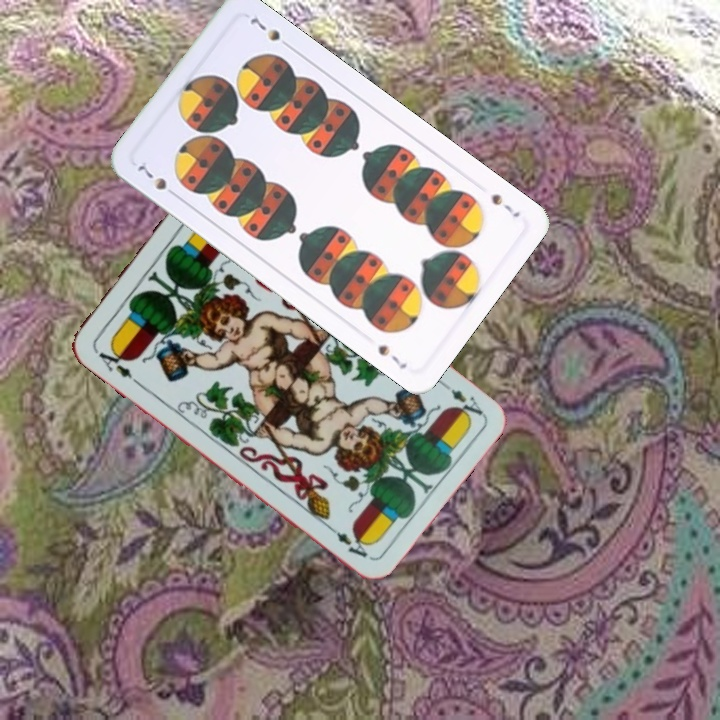EA: (435, 376, 485, 423), (90, 342, 141, 387)
S7: (133, 161, 181, 201), (487, 189, 523, 220)
